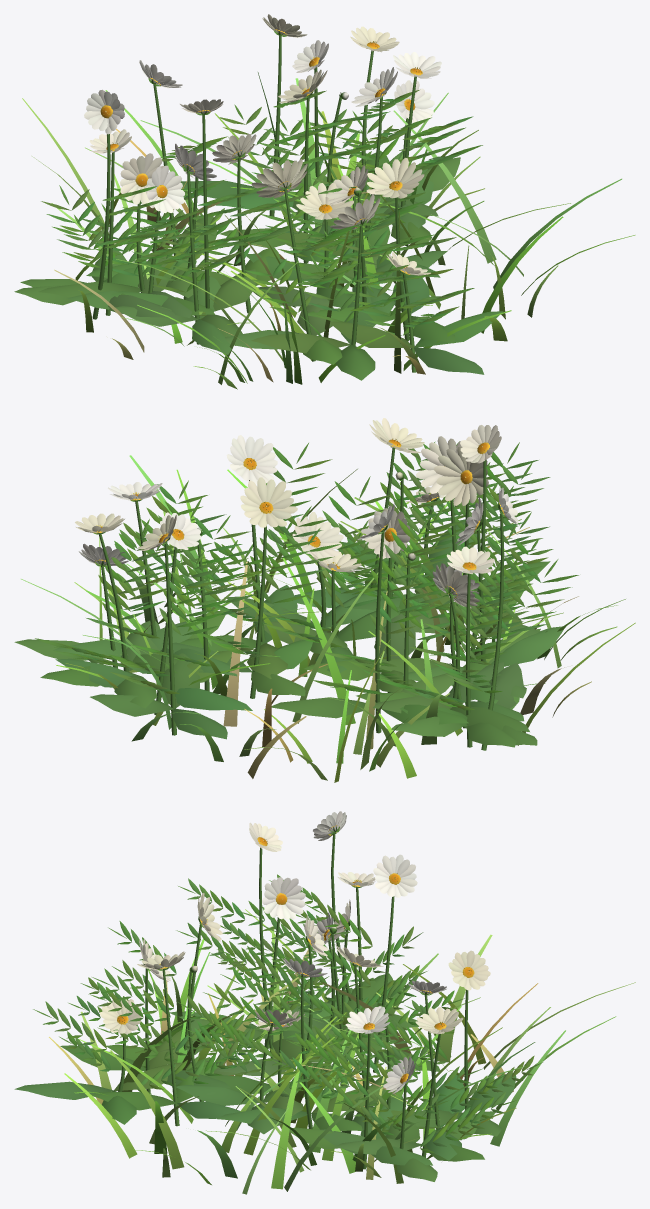
The model's file is daisy.glb.
3 views of the same model, one above another, from view 1: azimuth 30°, elevation 25°; view 2: azimuth 150°, elevation 25°; view 3: azimuth 270°, elevation 25° (orthographic). The views are drawn at different scales.
Parts seen in each view (by area): view 1: leaf, petal, grass, stem, center; view 2: leaf, grass, petal, stem, center; view 3: leaf, grass, petal, stem, center.
Part boxes in pixels (<box>): leaf: <box>14,90,503,380</box>; petal: <box>84,14,441,275</box>; grass: <box>22,72,635,389</box>; stem: <box>92,34,416,372</box>; center: <box>100,29,422,274</box>; leaf: <box>14,441,578,747</box>; grass: <box>21,455,635,782</box>; petal: <box>75,418,519,608</box>; stem: <box>98,447,504,750</box>; center: <box>93,438,507,597</box>; leaf: <box>14,874,542,1181</box>; grass: <box>49,909,635,1194</box>; petal: <box>100,811,490,1093</box>; stem: <box>118,831,469,1169</box>; center: <box>117,825,474,1083</box>.
Size of the model in its own units: 1.26 by 0.5944 by 1.45.
